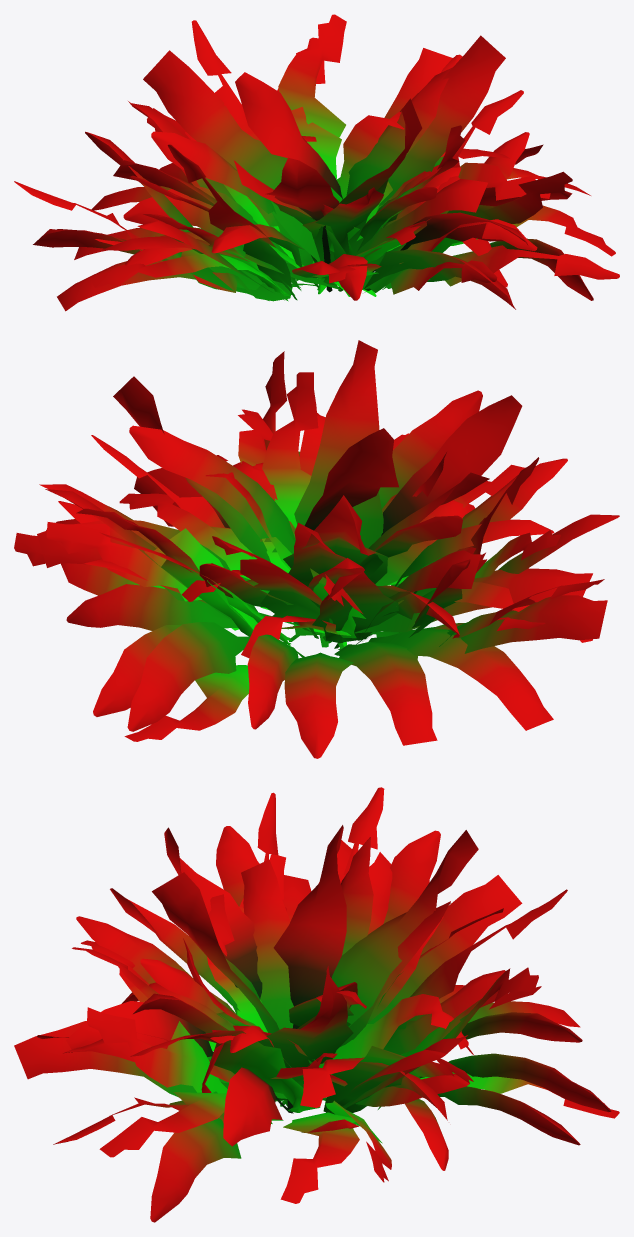
The model's file is Boston Fern_LOD0_Var1_rhDrC.fbx.
3 renders of one model, top to bottom at view 1: azimuth 30°, elevation 25°; view 2: azimuth 150°, elevation 25°; view 3: azimuth 270°, elevation 25°, orthographic. The views are drawn at different scales.
Parts seen in each view (by area): view 1: _d103_Var1_LOD0; view 2: _d103_Var1_LOD0; view 3: _d103_Var1_LOD0.
Boxes of the visible parts, <box> form: _d103_Var1_LOD0: <box>14,14,619,311</box>; _d103_Var1_LOD0: <box>14,340,619,758</box>; _d103_Var1_LOD0: <box>14,787,619,1222</box>.
Bounding box in the file's own units: 12.75 × 5.32 × 11.26.
